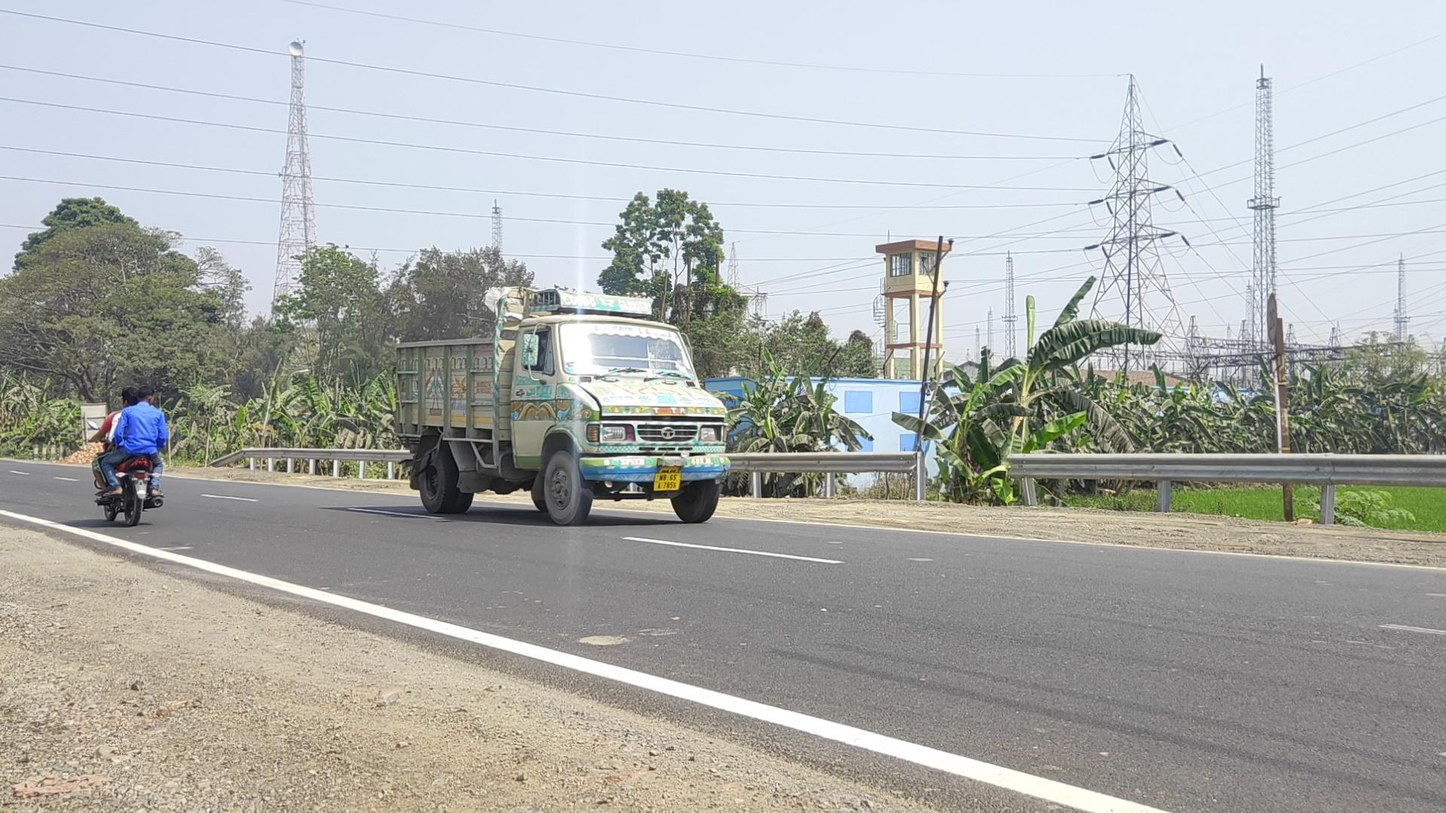bike: (87, 386, 167, 526)
truck: (395, 286, 731, 526)
